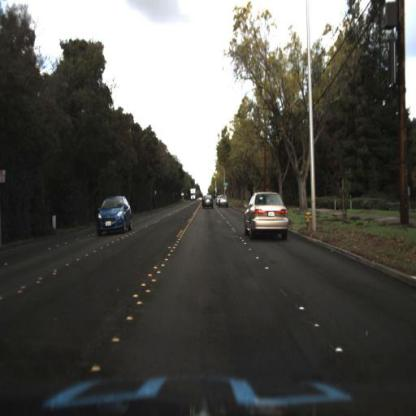car: (245, 190, 298, 251), (97, 196, 135, 236), (217, 191, 234, 211), (202, 192, 216, 213), (219, 194, 231, 208)
